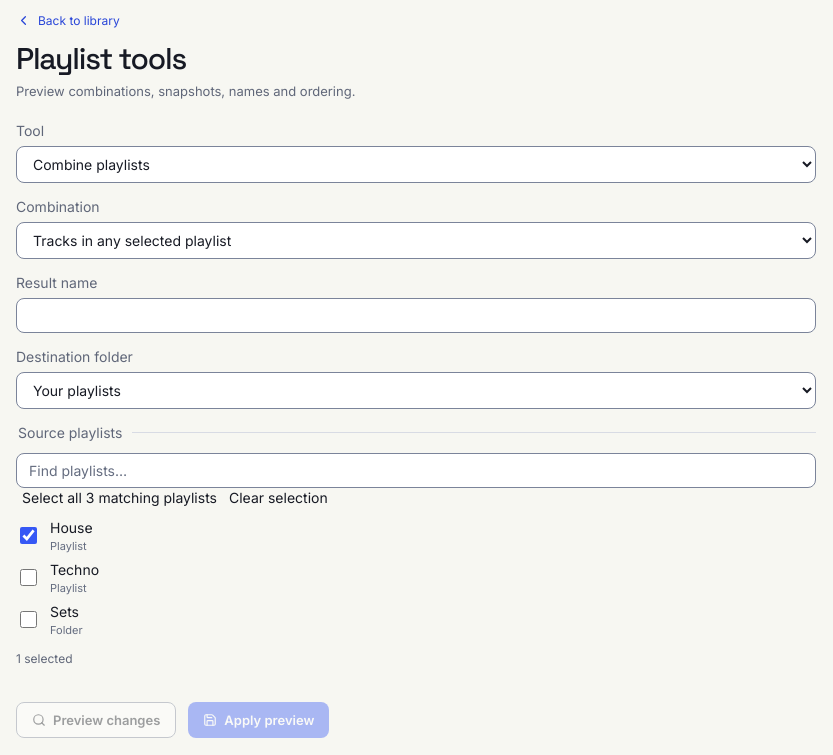
playlist tools › ignores a late preview after editing options and never enables its apply
Type "Before" into the field labelled "Result name".
click(416, 315); type("Before")  # box x1=16 y1=298 x2=816 y2=332
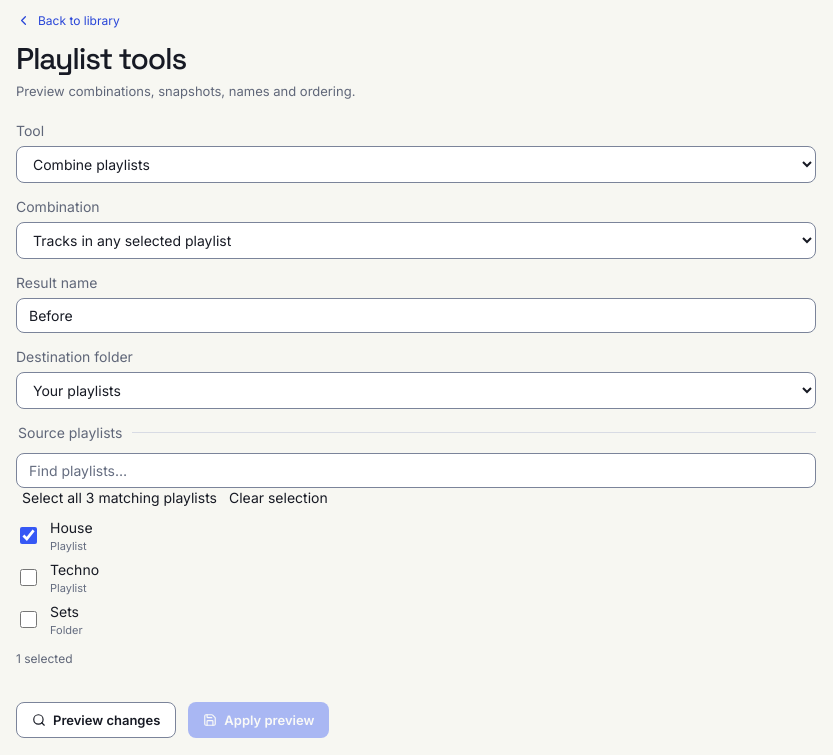
Click the button "Preview changes".
click(96, 720)  # box x1=16 y1=702 x2=176 y2=738
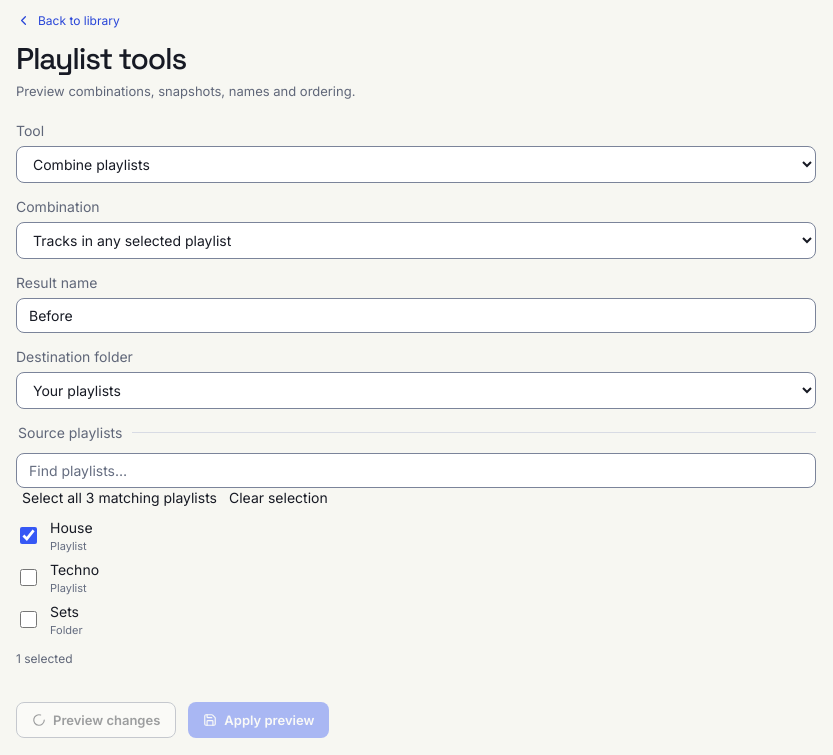
Replace the text in the field labelled "Result name" with "After" at (416, 315), box x1=16 y1=298 x2=816 y2=332
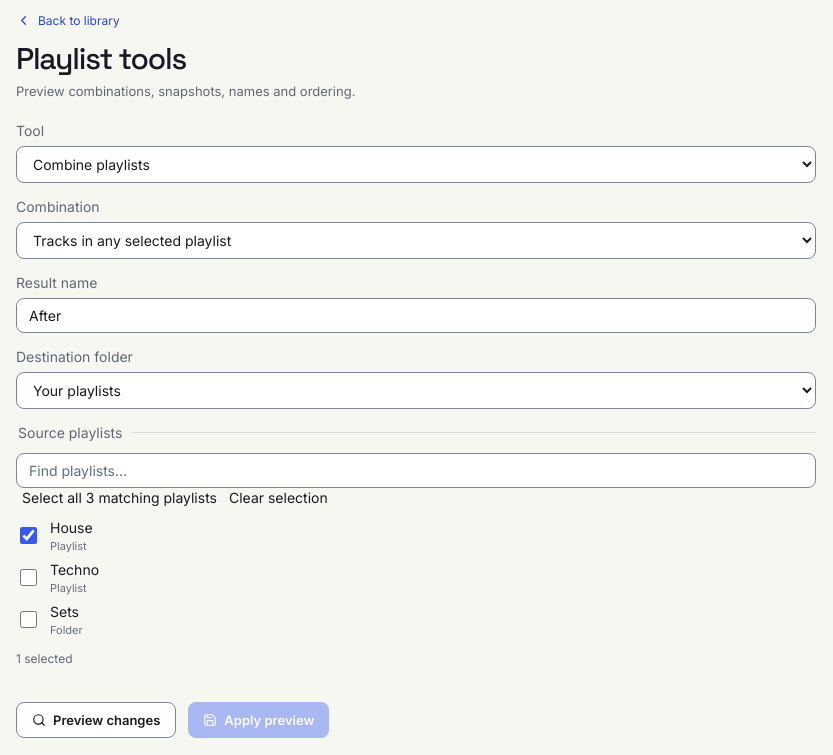
Expected: the button "Apply preview" is disabled, x1=188 y1=702 x2=329 y2=738
Now the button "Preview changes" is enabled, box x1=16 y1=702 x2=176 y2=738
